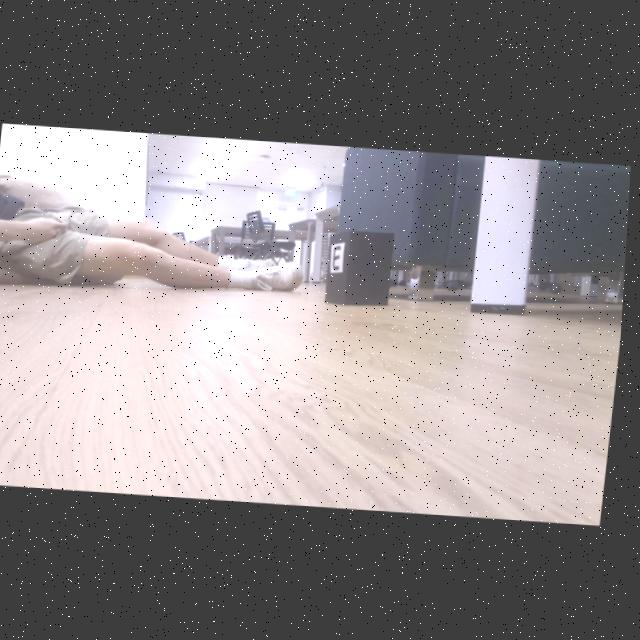E: (336, 245, 344, 269)
